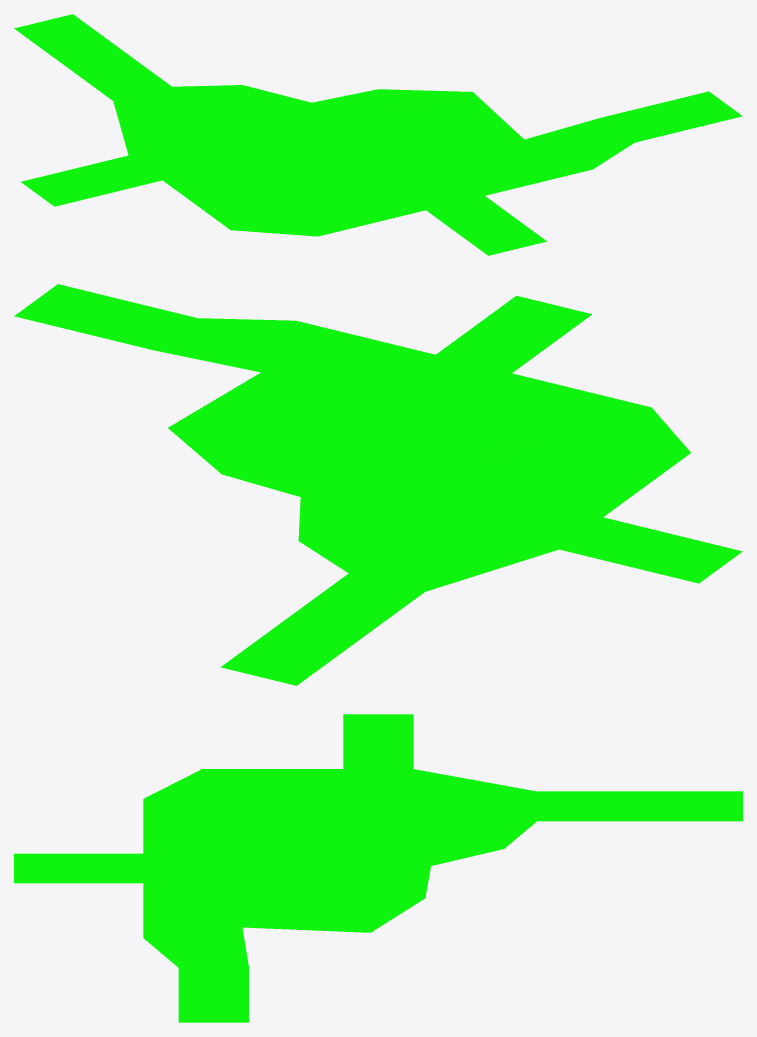
Rendered from s05a_xb2-floor.glb.
3 renders of one model, top to bottom at view 1: azimuth 30°, elevation 25°; view 2: azimuth 150°, elevation 25°; view 3: azimuth 270°, elevation 25°, orthographic. The views are drawn at different scales.
Parts seen in each view (by area): view 1: collision_floor-colonly; view 2: collision_floor-colonly; view 3: collision_floor-colonly.
Part boxes in pixels (x1,y1,x2,y2): collision_floor-colonly: (14,14,742,255); collision_floor-colonly: (14,284,742,685); collision_floor-colonly: (14,714,742,1022).
Bounding box in the file's own units: 62 × 0.00977 × 62.
